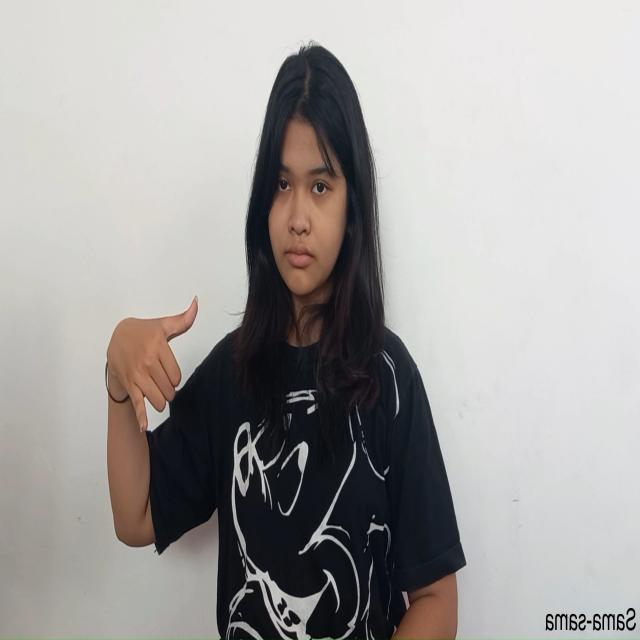Sama-sama -BISINDO-: (104, 292, 200, 437)
